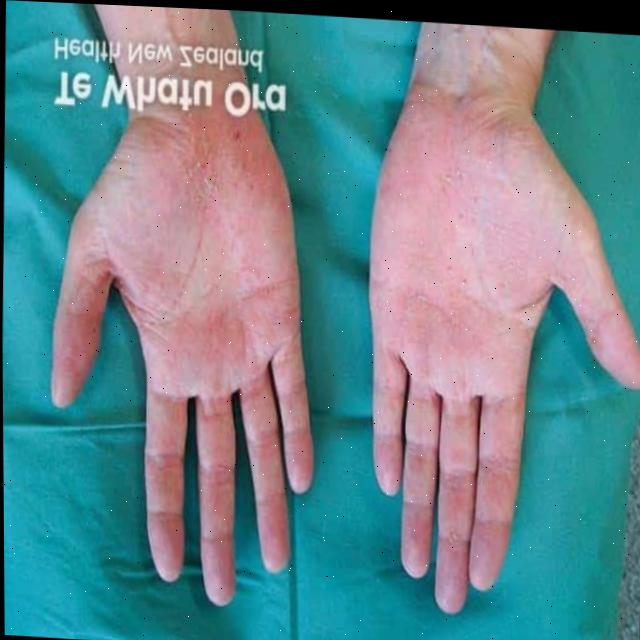Eczema: (380, 75, 627, 556), (107, 92, 293, 457)
